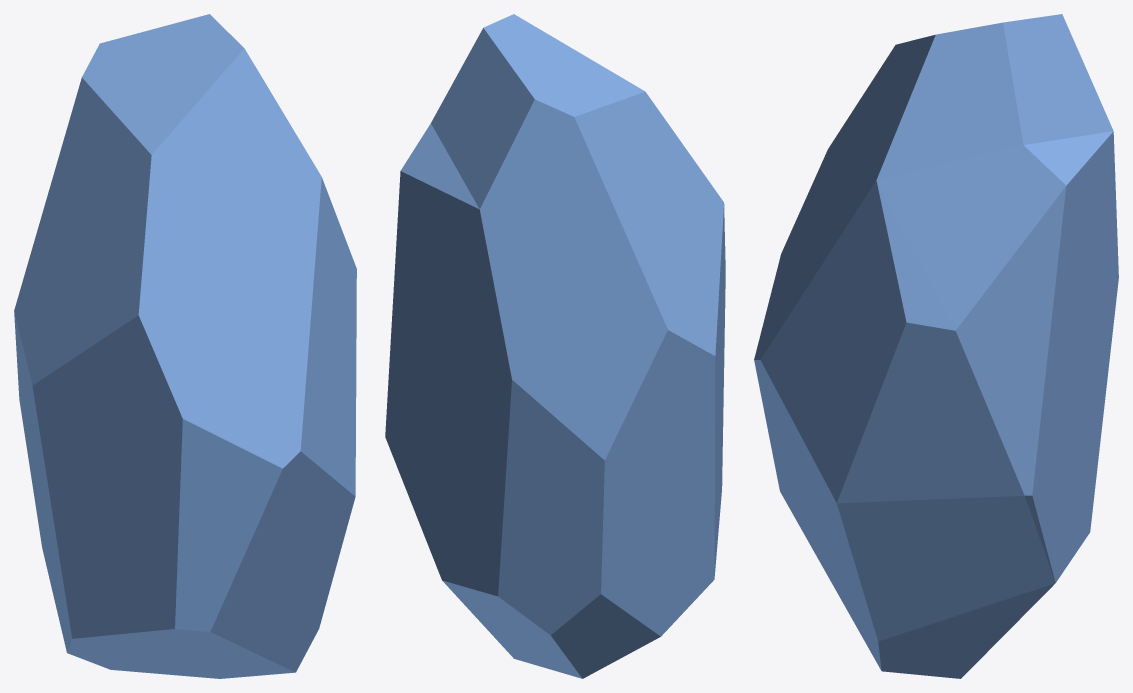
The model's file is meth.fbx.
3 views of the same model, side by side, from view 1: azimuth 30°, elevation 25°; view 2: azimuth 150°, elevation 25°; view 3: azimuth 270°, elevation 25° (orthographic). The views are drawn at different scales.
Parts seen in each view (by area): view 1: Crystal_Cube.001; view 2: Crystal_Cube.001; view 3: Crystal_Cube.001.
Part boxes in pixels (box(x1,y1,x2,y2)): Crystal_Cube.001: box(14, 14, 356, 678); Crystal_Cube.001: box(385, 14, 725, 678); Crystal_Cube.001: box(754, 14, 1118, 678).
Bounding box in the file's own units: 161 × 322 × 161.
